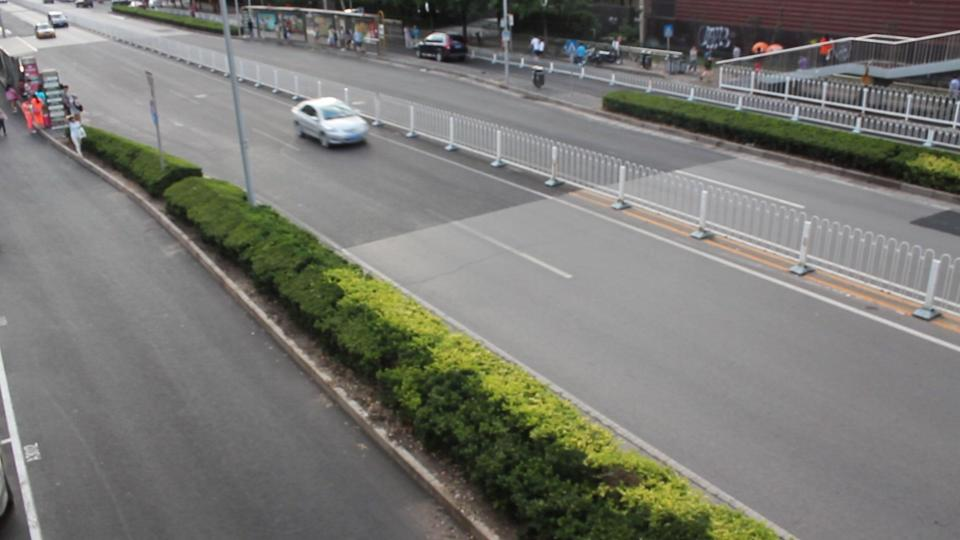car: (290, 96, 371, 148), (415, 32, 470, 62), (41, 19, 63, 38), (33, 23, 57, 39), (47, 11, 69, 28)
person: (528, 56, 549, 88), (529, 36, 545, 58), (0, 109, 7, 137)
